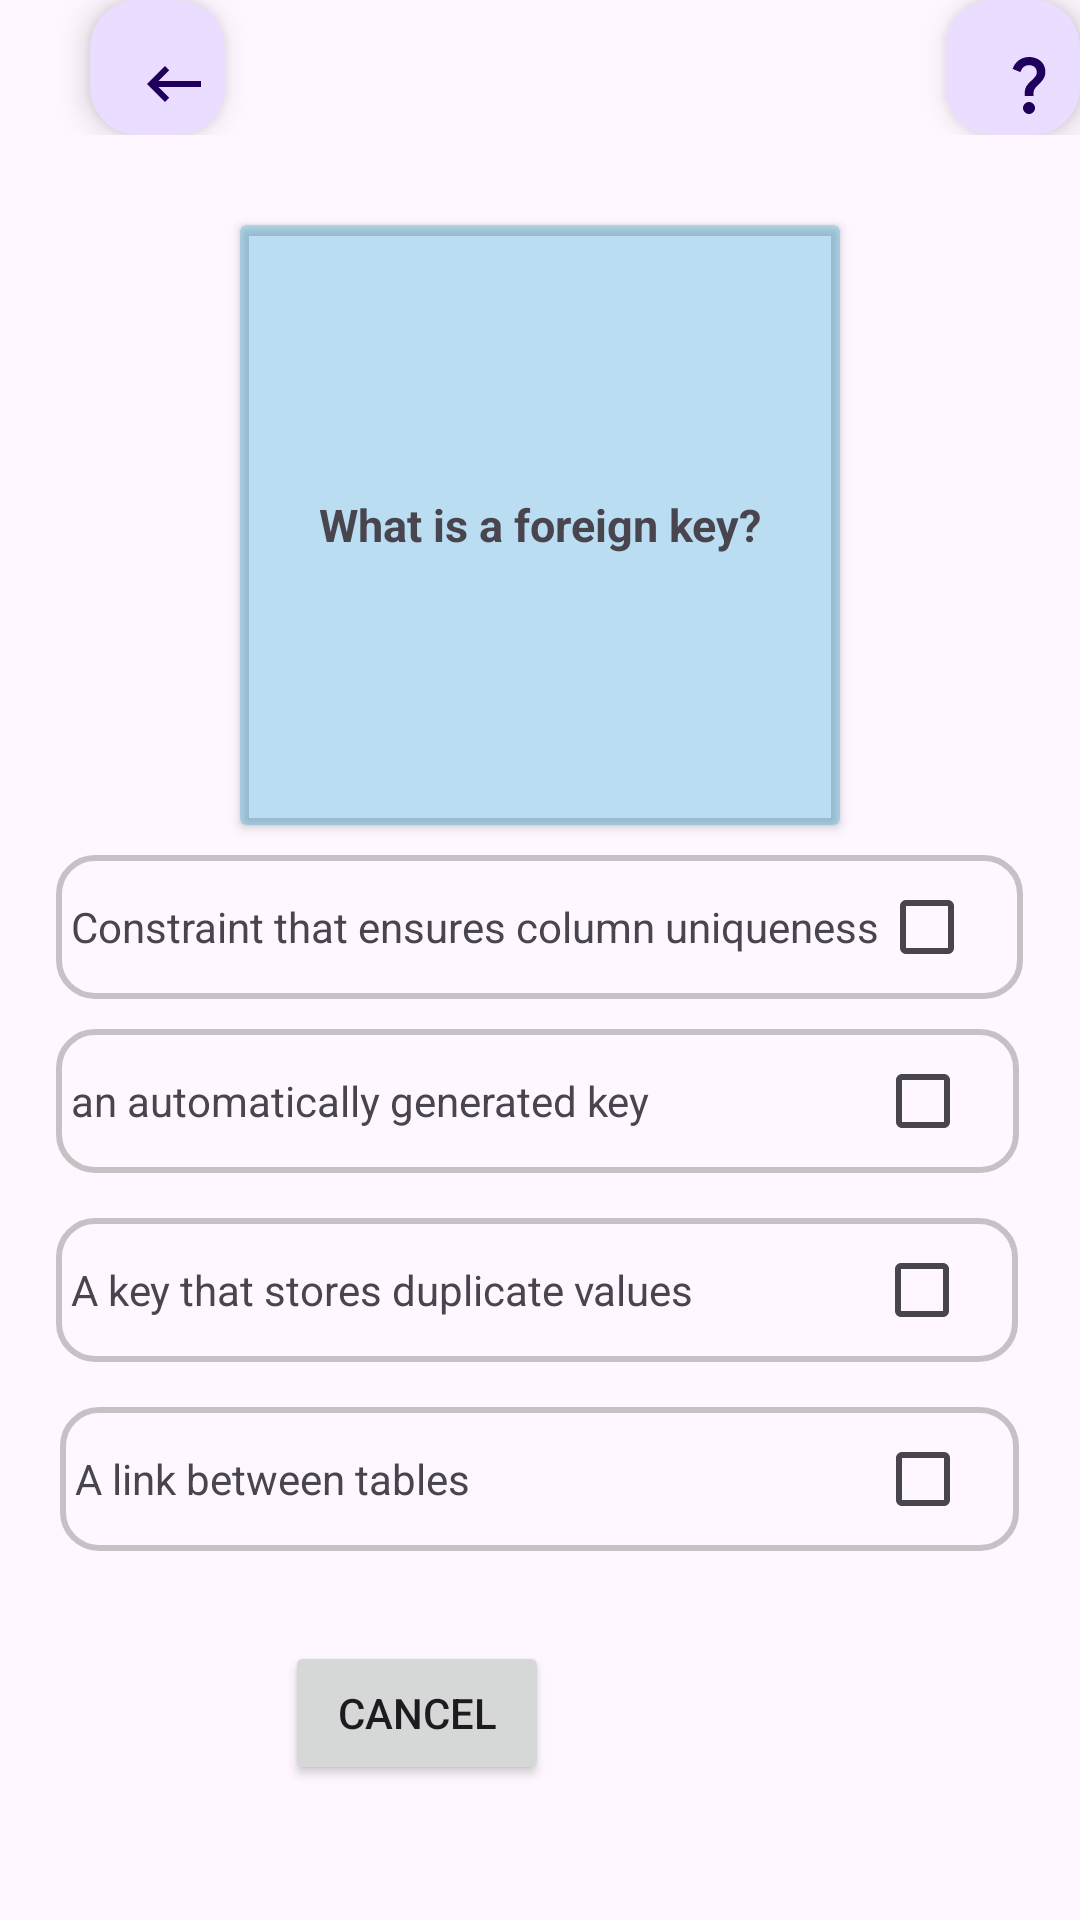

Screen size 1080 x 1920. Icon name, then its center in pixels as (x=x, y=y):
keyboard backspace: (x=157, y=67)
question mark: (x=1012, y=67)
